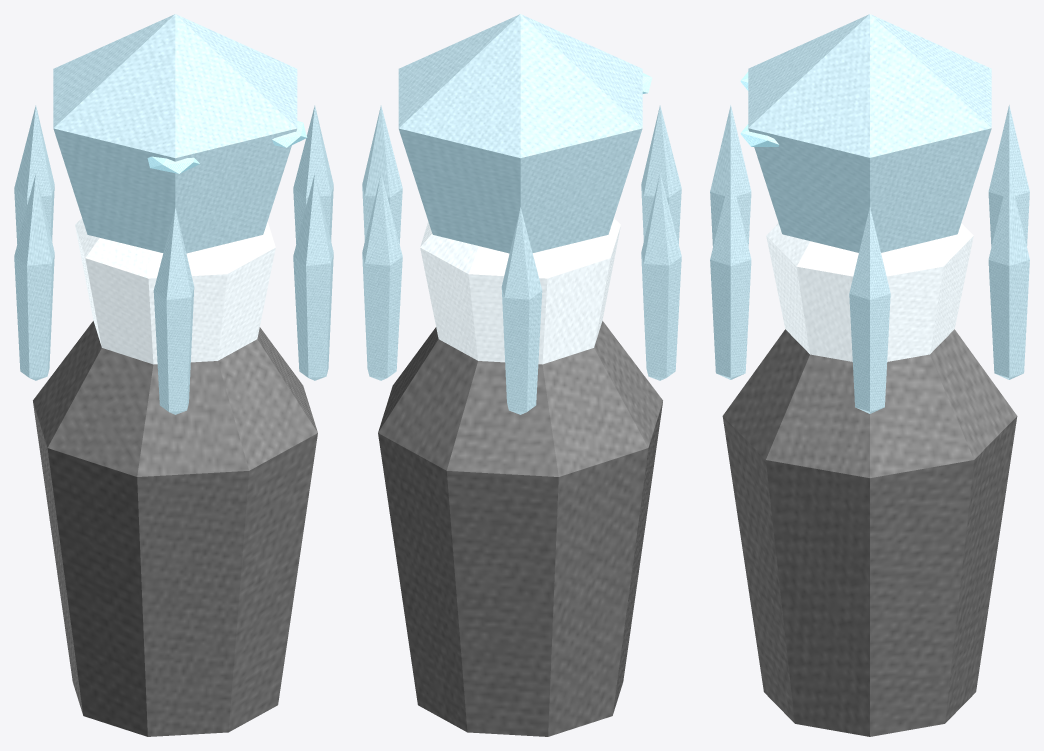
Rendered from deep-fracture-creature-FacetSentry-frost.glb.
3 views of the same model, side by side, from view 1: azimuth 30°, elevation 25°; view 2: azimuth 150°, elevation 25°; view 3: azimuth 270°, elevation 25° (orthographic).
Parts seen in each view (by area): view 1: pedestal, sensor, control-core, prong1, prong3, prong2, prong4, prong0, inset-eye--1; view 2: pedestal, sensor, control-core, prong5, prong3, prong4, prong0, prong2; view 3: pedestal, sensor, control-core, prong0, prong1, prong5, prong2, prong4.
Part boxes in pixels (left/top/right/bottom): pedestal: left=33, top=321, right=317, bottom=736; sensor: left=53, top=14, right=297, bottom=253; control-core: left=75, top=218, right=275, bottom=364; prong1: left=293, top=173, right=333, bottom=380; prong3: left=14, top=173, right=54, bottom=380; prong2: left=153, top=207, right=194, bottom=414; prong4: left=14, top=105, right=54, bottom=243; prong0: left=293, top=105, right=333, bottom=243; inset-eye--1: left=147, top=156, right=199, bottom=173; pedestal: left=378, top=321, right=662, bottom=736; sensor: left=398, top=14, right=642, bottom=253; control-core: left=420, top=218, right=620, bottom=364; prong5: left=362, top=173, right=402, bottom=380; prong3: left=641, top=173, right=681, bottom=380; prong4: left=501, top=207, right=542, bottom=414; prong0: left=362, top=105, right=402, bottom=243; prong2: left=641, top=105, right=681, bottom=243; pedestal: left=722, top=329, right=1017, bottom=736; sensor: left=748, top=14, right=991, bottom=252; control-core: left=766, top=223, right=973, bottom=361; prong0: left=849, top=207, right=890, bottom=413; prong1: left=710, top=173, right=751, bottom=379; prong5: left=988, top=173, right=1029, bottom=379; prong2: left=710, top=105, right=751, bottom=246; prong4: left=988, top=105, right=1029, bottom=246.
Bounding box in the file's own units: 1.08 × 2.3 × 0.955.
Materials: 4 (4 with a texture image).
